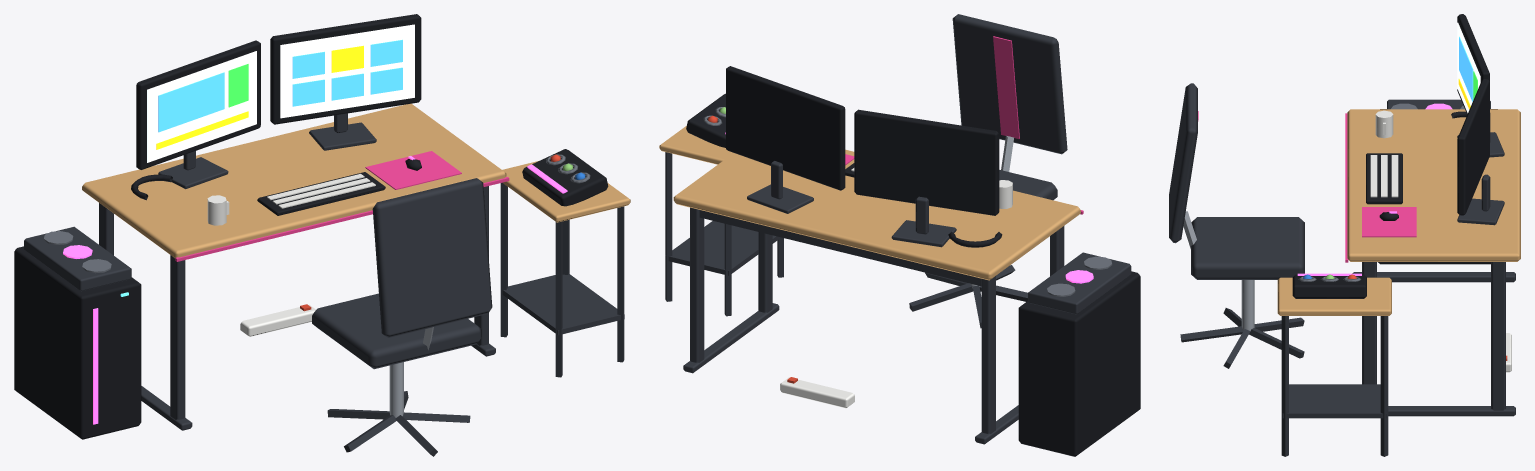
The model's file is station_processing_1.glb.
3 renders of one model, left to right at view 1: azimuth 30°, elevation 25°; view 2: azimuth 150°, elevation 25°; view 3: azimuth 270°, elevation 25°, orthographic. The views are drawn at different scales.
Visible parts, largest first — view 1: station_processing_1; view 2: station_processing_1; view 3: station_processing_1.
Part boxes in pixels (x1,y1,x2,y2): station_processing_1: (14,14,630,456); station_processing_1: (659,14,1140,456); station_processing_1: (1169,14,1520,456).
Bounding box in the file's own units: 2.09 × 1.21 × 1.42.
